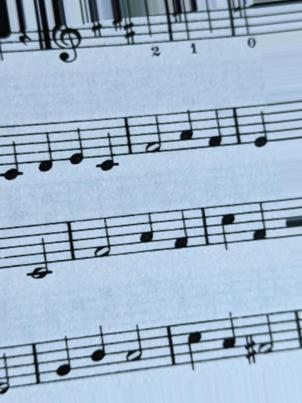note: (92, 115, 123, 177), (1, 125, 26, 186), (85, 323, 111, 381), (34, 120, 57, 176), (216, 199, 239, 255), (52, 333, 75, 387), (183, 317, 205, 373), (248, 101, 271, 153), (66, 115, 88, 169), (169, 205, 194, 252), (248, 198, 271, 248), (219, 310, 239, 365), (137, 210, 158, 258), (205, 107, 226, 151), (178, 108, 197, 156)
